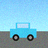vehicle: (10, 23, 36, 41)
